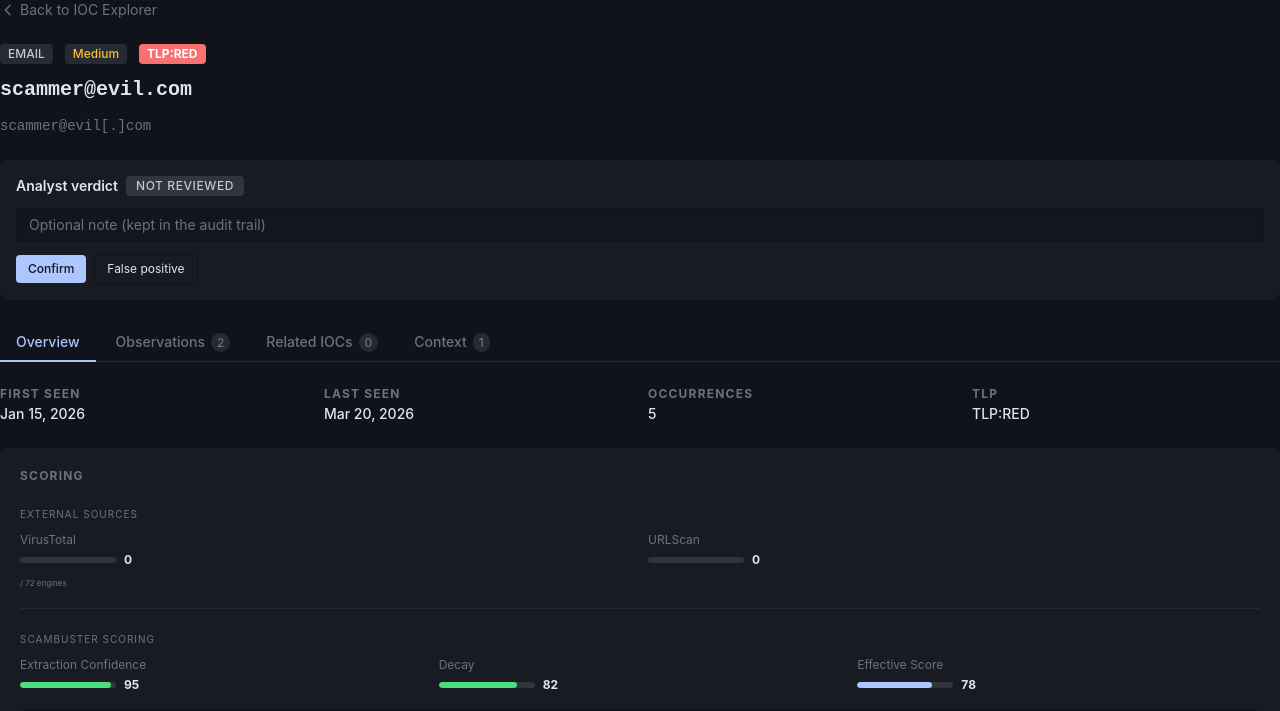
Test: IocDetail — coverage gaps › renders context tab with structural-only status
This screenshot has width=1280, height=711.
expect the heading "scammer@evil.com" is shown: met, box 0,78 -> 192,101
Click the button "Context1".
click(452, 343)  # box 398,324 -> 506,362
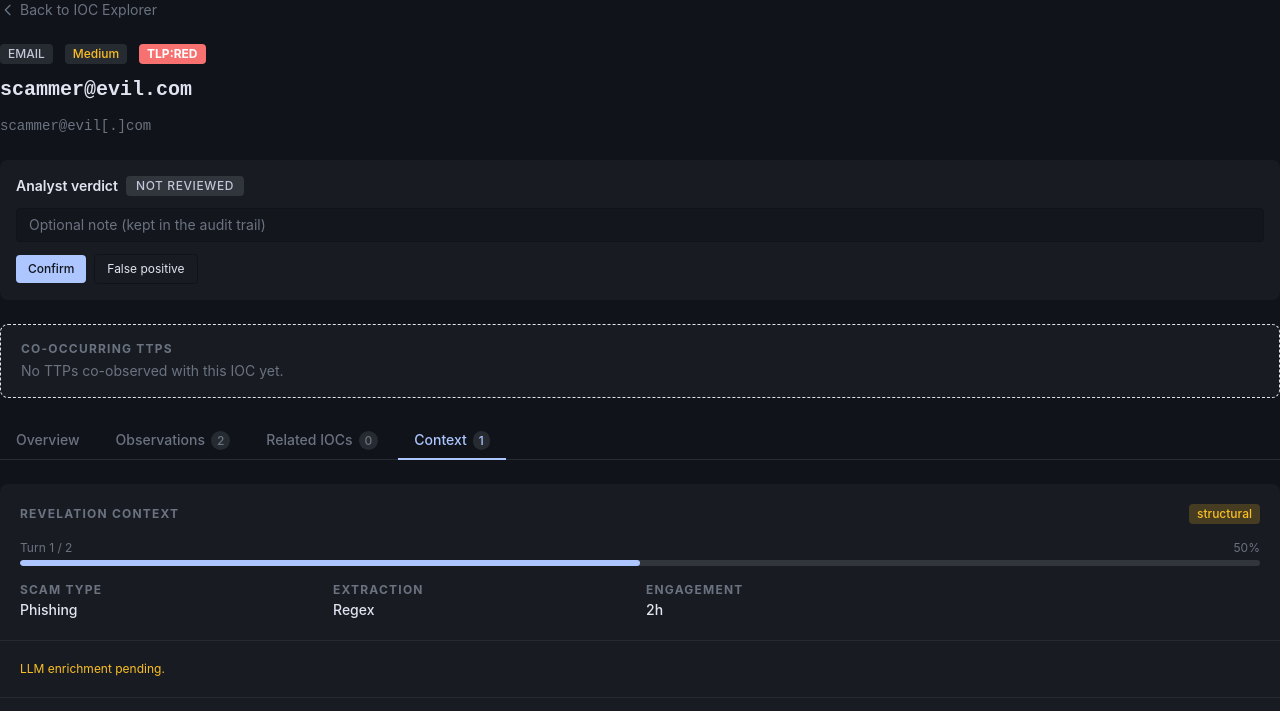
expect the text "structural" is shown: met, box 1189,504 -> 1260,524
